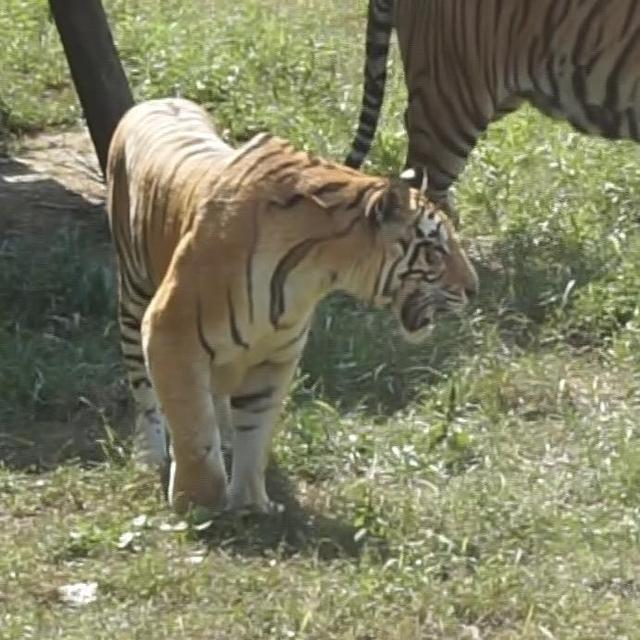tiger: (92, 82, 482, 540), (339, 0, 640, 302)
